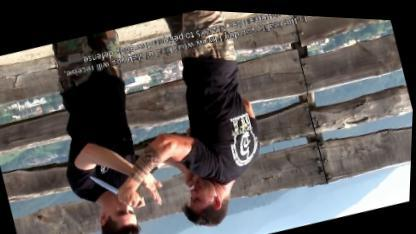knife: (86, 160, 148, 218)
